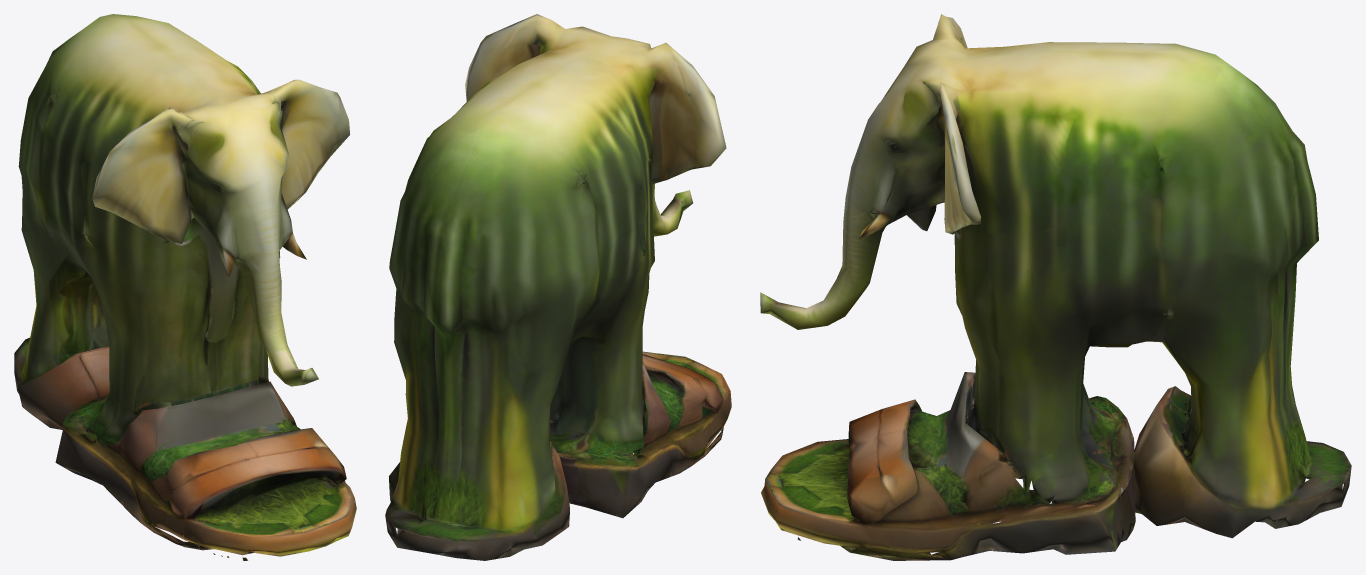
3 renders of one model, left to right at view 1: azimuth 30°, elevation 25°; view 2: azimuth 150°, elevation 25°; view 3: azimuth 270°, elevation 25°, orthographic. The views are drawn at different scales.
Bounding box in the file's own units: 1.14 × 1.73 × 2.
Materials: 1 (1 with a texture image).
